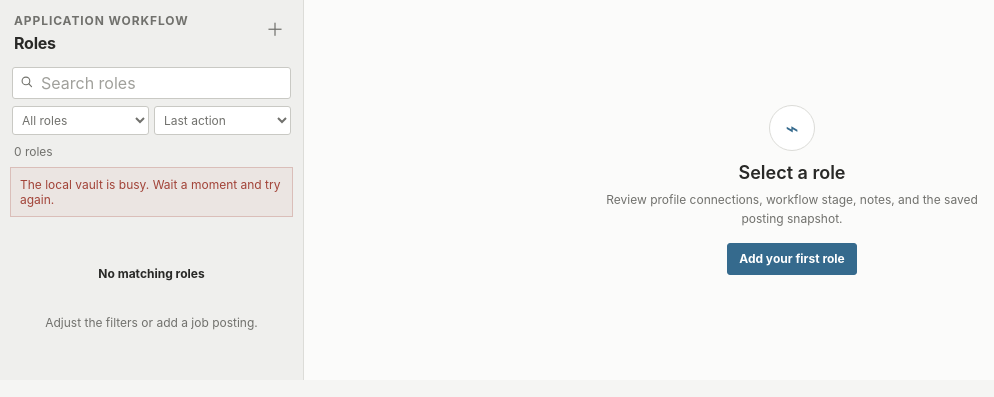
Test case: Roles list interactions › shows an IPC failure and recovers when the user changes the filter
Expected: the message "The local vault is busy. Wait a moment and try again." is shown, x1=10 y1=167 x2=293 y2=217
Select "Applied" in the 1st dropdown named "Filter by workflow stage" at (80, 120), box x1=12 y1=106 x2=149 y2=135
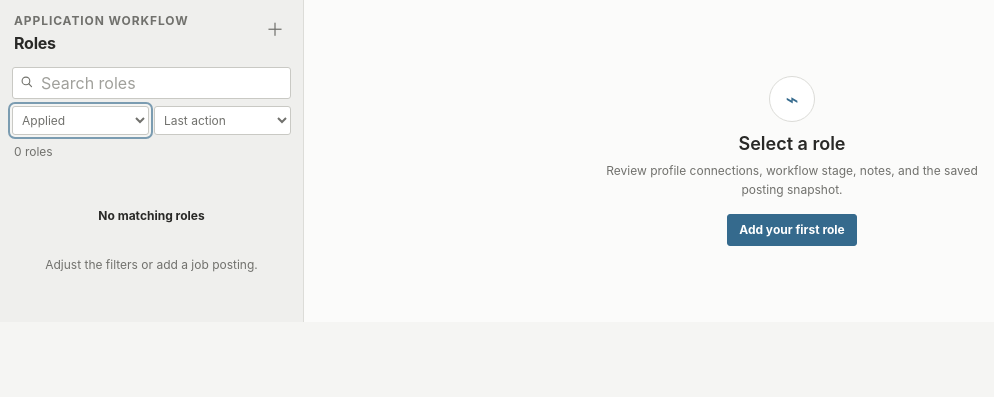
Expected: the text "No matching roles" is shown, x1=98 y1=208 x2=205 y2=223
Expected: the message "The local vault is busy. Wait a moment and try again." is gone
